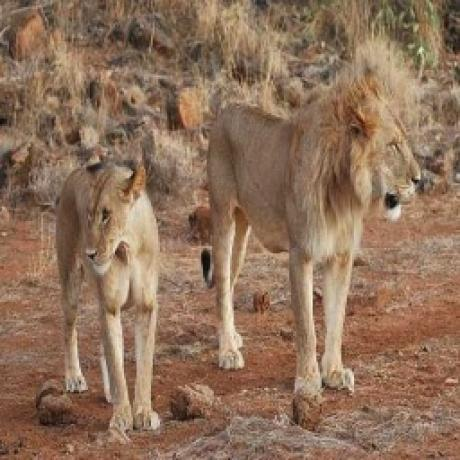Lion: (198, 77, 429, 406), (45, 152, 173, 434)
